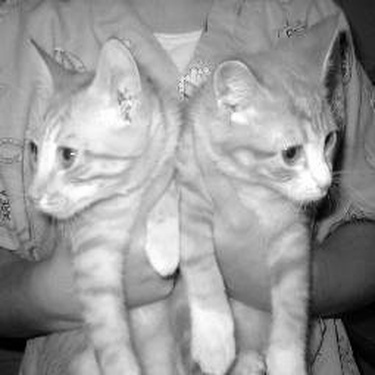cat: (172, 12, 344, 367), (28, 33, 180, 365)
